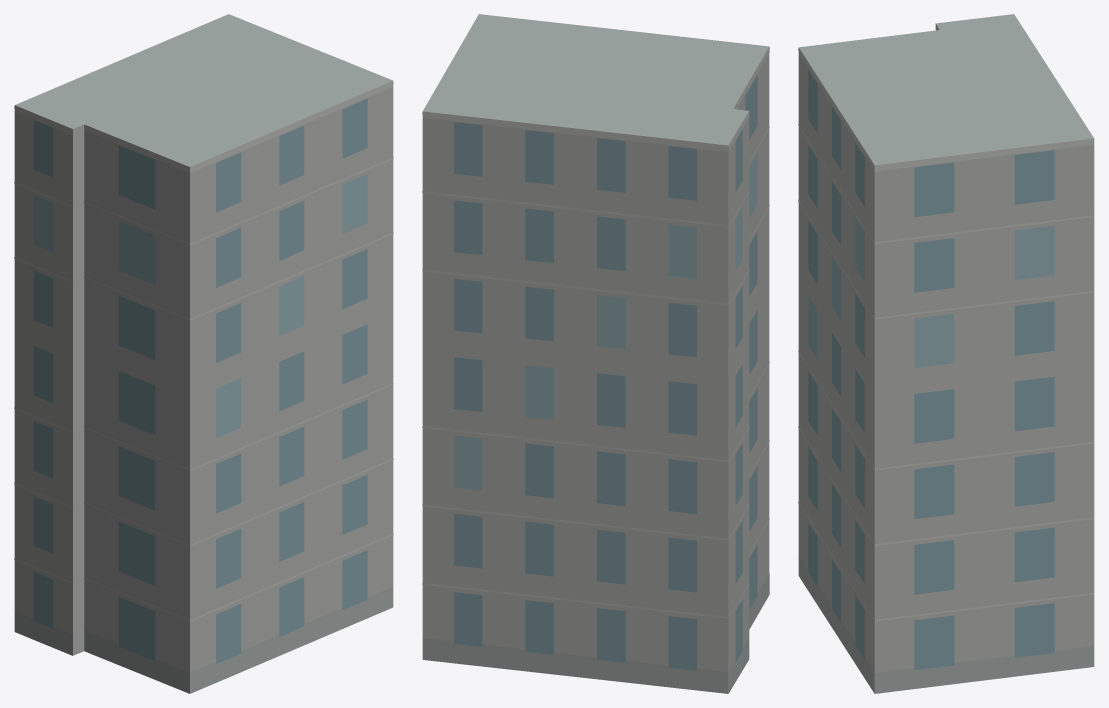
Rendered from survey-upis-32803826.glb.
3 views of the same model, side by side, from view 1: azimuth 30°, elevation 25°; view 2: azimuth 150°, elevation 25°; view 3: azimuth 270°, elevation 25° (orthographic). The views are drawn at different scales.
Parts seen in each view (by area): view 1: survey-upis-32803826.tmp; view 2: survey-upis-32803826.tmp; view 3: survey-upis-32803826.tmp.
Boxes of the visible parts, x1,y1,x2,y2 form: survey-upis-32803826.tmp: (14,14,393,693); survey-upis-32803826.tmp: (422,14,769,693); survey-upis-32803826.tmp: (798,14,1094,693).
Bounding box in the file's own units: 12.74 × 20.7 × 10.52.
